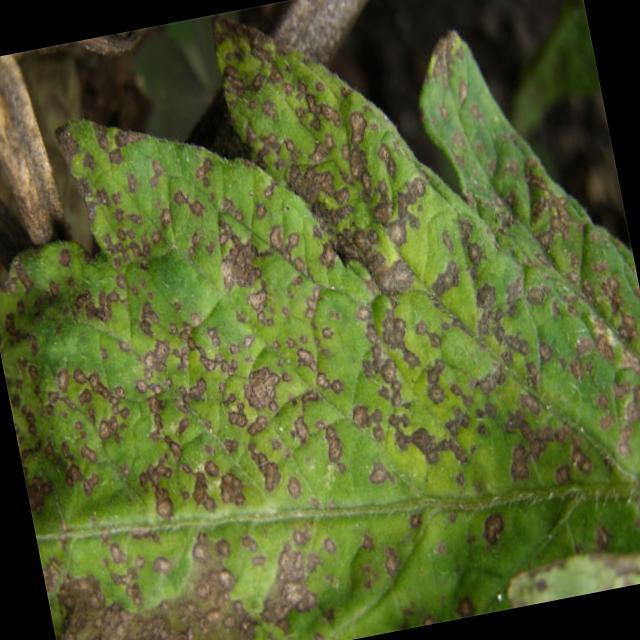Bacterial Spot: (0, 34, 627, 640)
